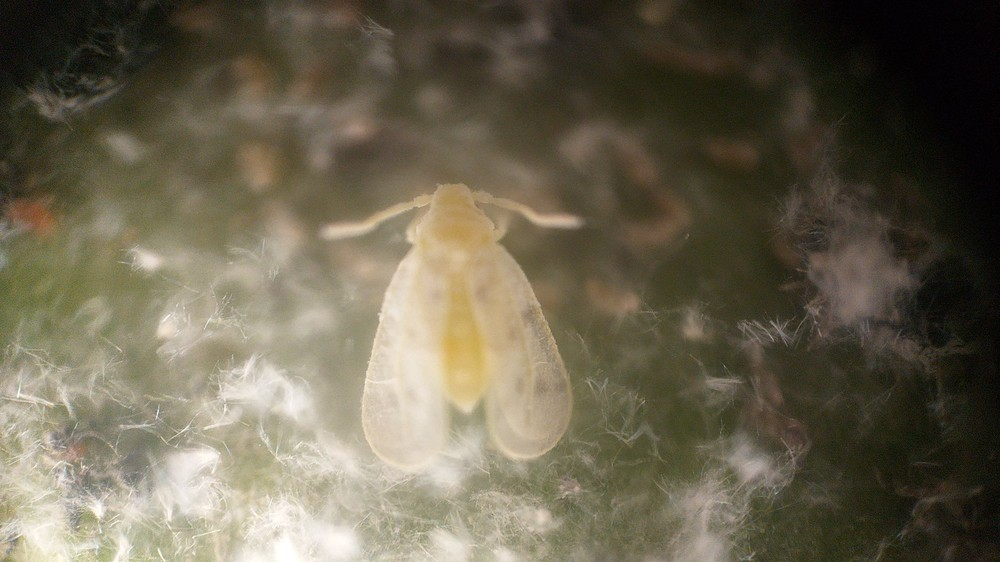Mosca Blanca: (303, 172, 621, 484)
